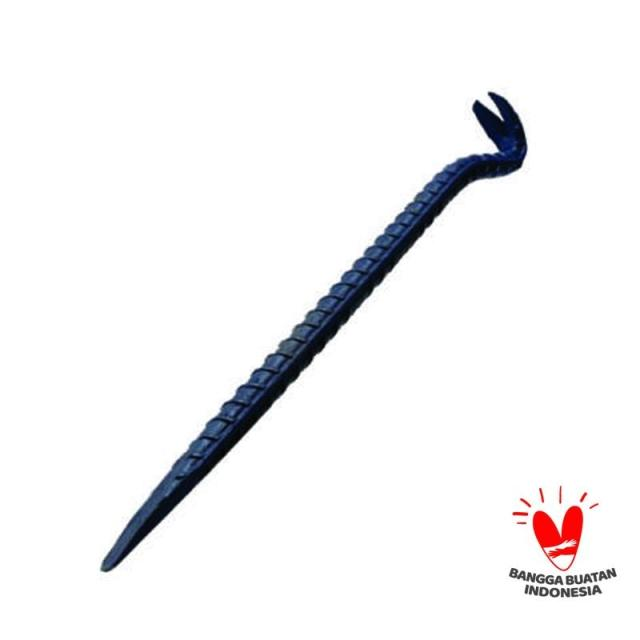Linggis: (86, 89, 532, 576)
